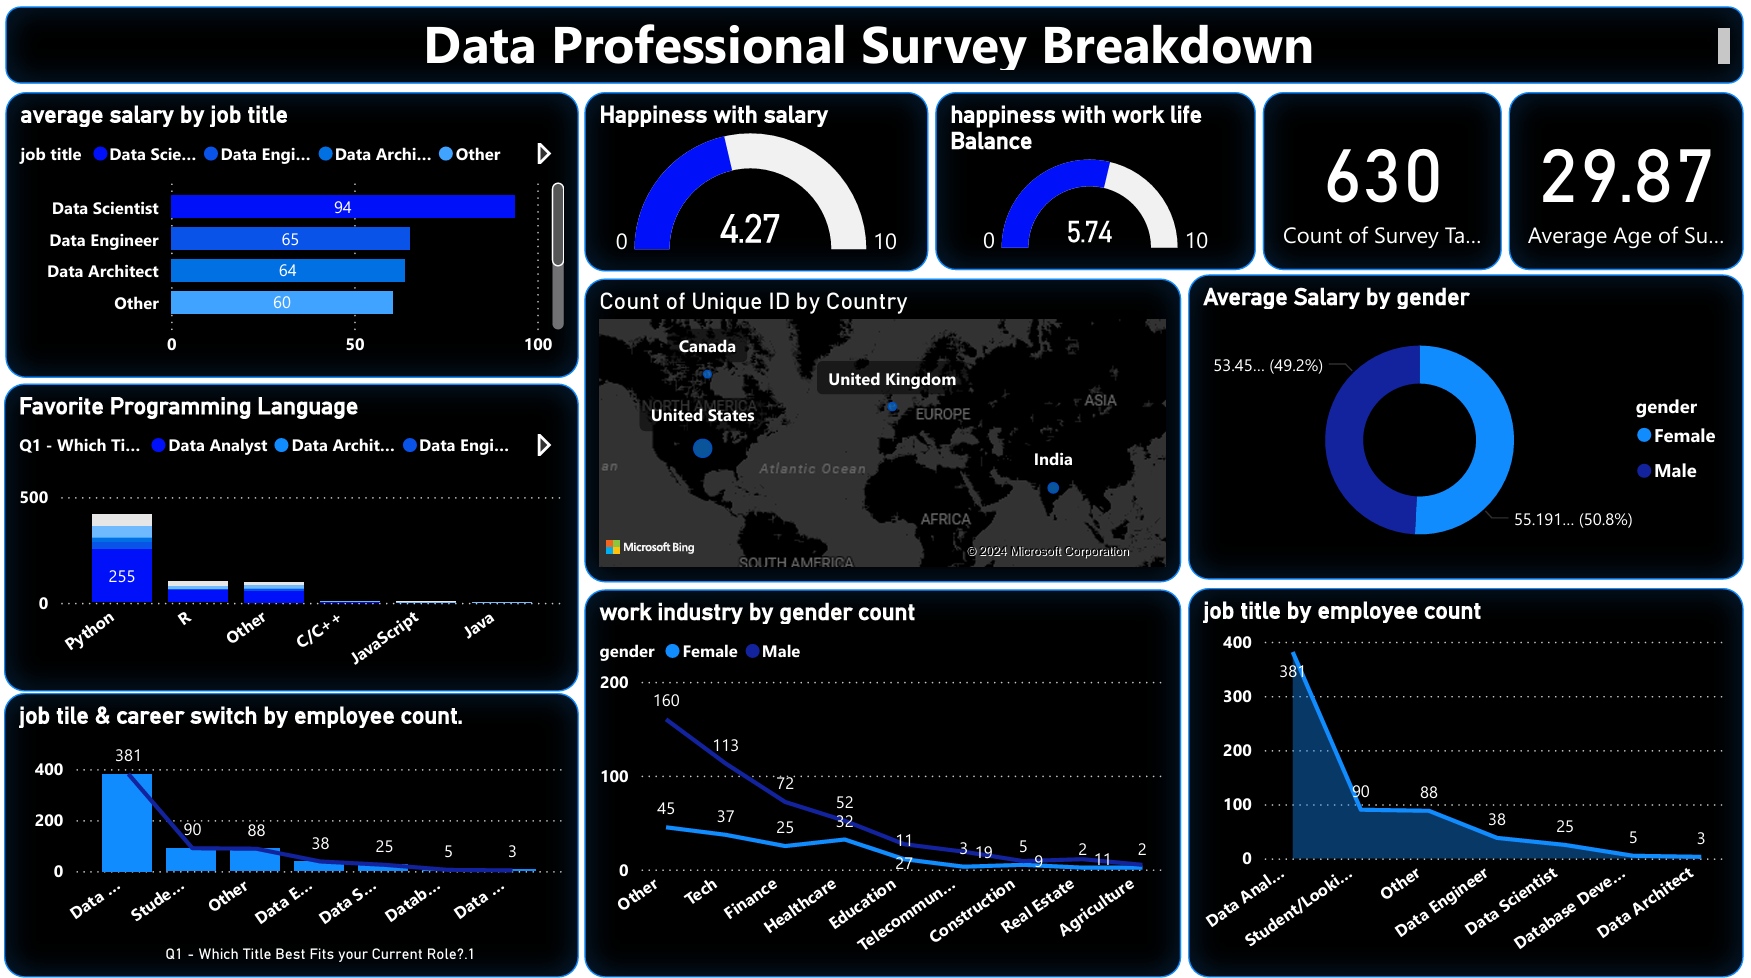

The dashboard page shown, as its layout file describes it:
{"tool":"powerbi","page":{"name":"Page 1","canvas":[1280,720],"ordinal":0},"visuals":[{"type":"textbox","box":[11,11,1258.3,56.3],"z":1},{"type":"card","fields":{"Values":["Count(Data Professional Survey.Unique ID)"]},"box":[920.8,73.4,173.6,128.4],"z":2},{"type":"card","fields":{"Values":["Avg(Data Professional Survey.Q10 - Current Age)"]},"box":[1099.3,73.4,170,128.4],"z":3},{"type":"barChart","title":"average salary by job title","fields":{"Category":["Data Professional Survey.Q1 - Which Title Best Fits your Current Role?.1"],"Y":["Avg(Data Professional Survey.average salary.1)"],"Series":["Data Professional Survey.Q1 - Which Title Best Fits your Current Role?.1"]},"box":[11,73.4,414.5,206.7],"z":4},{"type":"columnChart","title":" Favorite Programming Language","fields":{"Category":["Data Professional Survey.Q5 - Favorite Programming Language.1"],"Y":["CountNonNull(Data Professional Survey.Unique ID)"],"Series":["Data Professional Survey.Q1 - Which Title Best Fits your Current Role?.1"]},"box":[9.8,283.7,415.8,223.8],"z":5},{"type":"map","fields":{"Category":["Data Professional Survey.Q11 - Which Country do you live in?.1"],"Size":["CountNonNull(Data Professional Survey.Unique ID)"]},"box":[430.4,207.9,431.7,220.1],"z":6},{"type":"gauge","title":"happiness with work life Balance","fields":{"Y":["Avg(Data Professional Survey.Q6 - How Happy are you in your Current Position with the following? (Work/Life Balance))"],"MinValue":["Min(Data Professional Survey.Q6 - How Happy are you in your Current Position with the following? (Work/Life Balance))1"],"MaxValue":["Max(Data Professional Survey.Q6 - How Happy are you in your Current Position with the following? (Work/Life Balance))2"]},"box":[683.6,73.4,232.3,128.4],"z":7},{"type":"gauge","title":"Happiness with salary","fields":{"Y":["Avg(Data Professional Survey.Q6 - How Happy are you in your Current Position with the following? (Salary))"],"MinValue":["Min(Data Professional Survey.Q6 - How Happy are you in your Current Position with the following? (Salary))1"],"MaxValue":["Max(Data Professional Survey.Q6 - How Happy are you in your Current Position with the following? (Salary))2"]},"box":[430.4,73.4,248.2,129.6],"z":8},{"type":"donutChart","fields":{"Category":["Data Professional Survey.Q9 - Male/Female?"],"Y":["Avg(Data Professional Survey.average salary.1)"]},"box":[867,205.4,402.3,220.1],"z":9},{"type":"lineChart","title":"work industry by gender count","fields":{"Series":["Data Professional Survey.Q9 - Male/Female?"],"Y":["CountNonNull(Data Professional Survey.Unique ID)"],"Category":["Data Professional Survey.Q4 - What Industry do you work in?.1"]},"box":[430.4,432.9,431.7,281.3],"z":10},{"type":"areaChart","title":"job title by employee count","fields":{"Y":["Count(Data Professional Survey.Unique ID)"],"Category":["Data Professional Survey.Q1 - Which Title Best Fits your Current Role?.1"]},"box":[867,431.7,402.3,282.5],"z":11},{"type":"lineStackedColumnComboChart","title":"job tile &  career switch by employee count.","fields":{"Category":["Data Professional Survey.Q1 - Which Title Best Fits your Current Role?.1"],"Y":["CountNonNull(Data Professional Survey.Unique ID)"],"Y2":["CountNonNull(Data Professional Survey.Q2 - Did you switch careers into Data?)"]},"box":[10,508,416,206],"z":12}]}

Visuals, with their boxes in screenshot pixels (x1, y1, x2, y2), scaled from the page's 1280x720 canvas onto the 1751x978 screenshot:
textbox: x1=15 y1=15 x2=1736 y2=91
card - Count(Data Professional Survey.Unique ID): x1=1260 y1=100 x2=1497 y2=274
card - Avg(Data Professional Survey.Q10 - Current Age): x1=1504 y1=100 x2=1736 y2=274
"average salary by job title" barChart: x1=15 y1=100 x2=582 y2=380
" Favorite Programming Language" columnChart: x1=13 y1=385 x2=582 y2=689
map - Data Professional Survey.Q11 - Which Country do you live in?.1 x CountNonNull(Data Professional Survey.Unique ID): x1=589 y1=282 x2=1179 y2=581
"happiness with work life Balance" gauge: x1=935 y1=100 x2=1253 y2=274
"Happiness with salary" gauge: x1=589 y1=100 x2=928 y2=276
donutChart - Data Professional Survey.Q9 - Male/Female? x Avg(Data Professional Survey.average salary.1): x1=1186 y1=279 x2=1736 y2=578
"work industry by gender count" lineChart: x1=589 y1=588 x2=1179 y2=970
"job title by employee count" areaChart: x1=1186 y1=586 x2=1736 y2=970
"job tile &  career switch by employee count." lineStackedColumnComboChart: x1=14 y1=690 x2=583 y2=970
